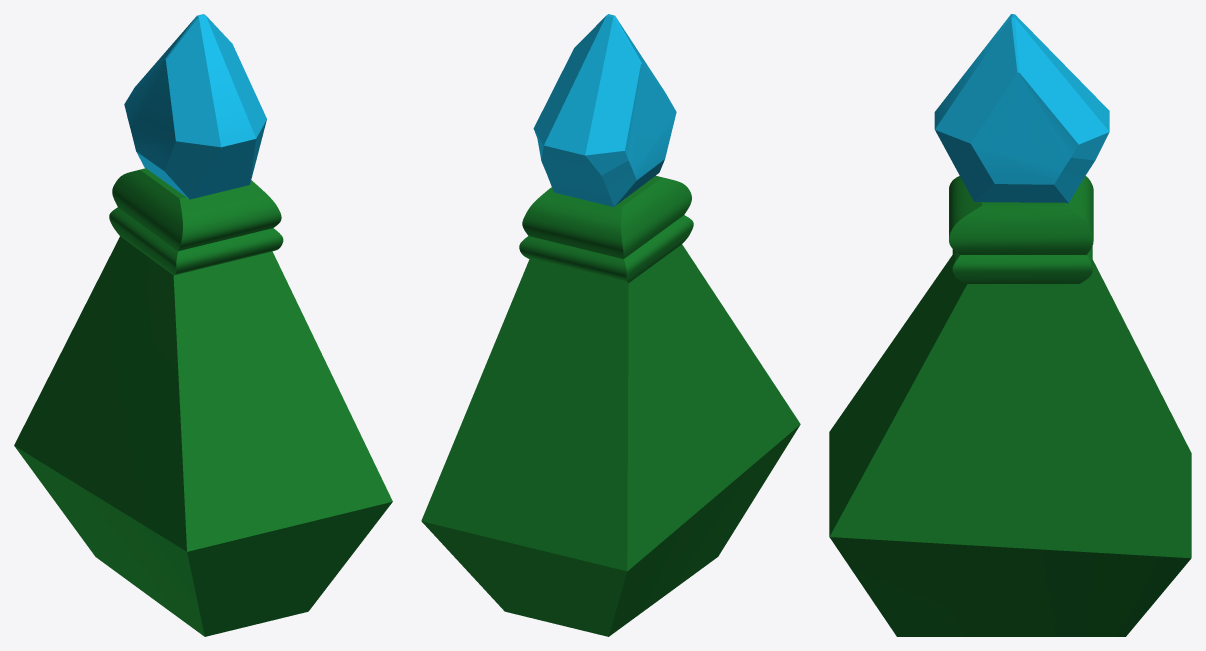
The model's file is Potion two.fbx.
3 renders of one model, left to right at view 1: azimuth 30°, elevation 25°; view 2: azimuth 150°, elevation 25°; view 3: azimuth 270°, elevation 25°, orthographic. The views are drawn at different scales.
Parts seen in each view (by area): view 1: Potion bottle, Box013; view 2: Potion bottle, Box013; view 3: Potion bottle, Box013.
Boxes of the visible parts, <box> form: Potion bottle: <box>14,168,392,636</box>; Box013: <box>124,14,266,199</box>; Potion bottle: <box>421,175,800,636</box>; Box013: <box>533,14,676,206</box>; Potion bottle: <box>829,176,1191,636</box>; Box013: <box>934,14,1109,203</box>.
Size of the model in its own units: 192 by 506 by 279.
